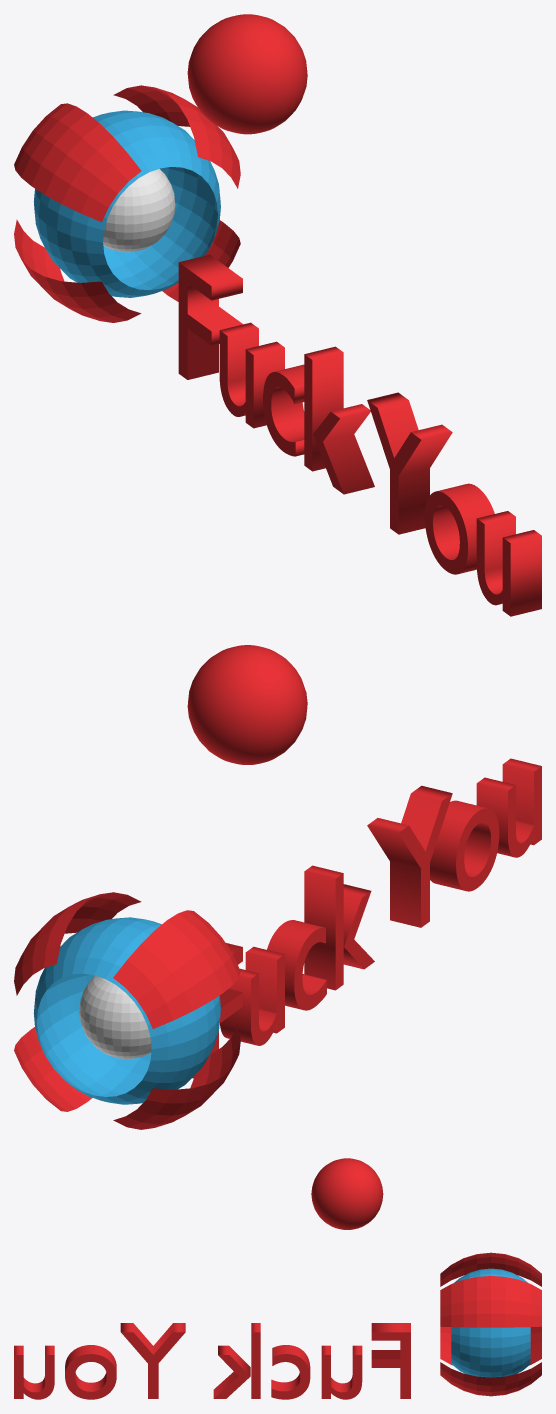
The model's file is testAnimation03.glb.
3 views of the same model, one above another, from view 1: azimuth 30°, elevation 25°; view 2: azimuth 150°, elevation 25°; view 3: azimuth 270°, elevation 25° (orthographic). The views are drawn at different scales.
Parts seen in each view (by area): view 1: Text, Sphere, Sphere.001, Sphere.002, Sphere.start; view 2: Text, Sphere, Sphere.001, Sphere.002, Sphere.start; view 3: Text, Sphere, Sphere.001, Sphere.002.
Part boxes in pixels (box(x1,y1,x2,y2)): Text: box(178, 254, 541, 616); Sphere: box(14, 85, 240, 322); Sphere.001: box(33, 110, 220, 297); Sphere.002: box(187, 14, 307, 134); Sphere.start: box(103, 169, 175, 252); Text: box(192, 758, 541, 1078); Sphere: box(14, 892, 240, 1129); Sphere.001: box(33, 917, 220, 1104); Sphere.002: box(187, 645, 307, 764); Sphere.start: box(79, 975, 151, 1058); Text: box(14, 1323, 410, 1399); Sphere: box(440, 1252, 541, 1396); Sphere.001: box(451, 1268, 530, 1377); Sphere.002: box(311, 1158, 383, 1229).
Size of what is drawn, in the model's own units: 1.85 by 3.58 by 7.34.
